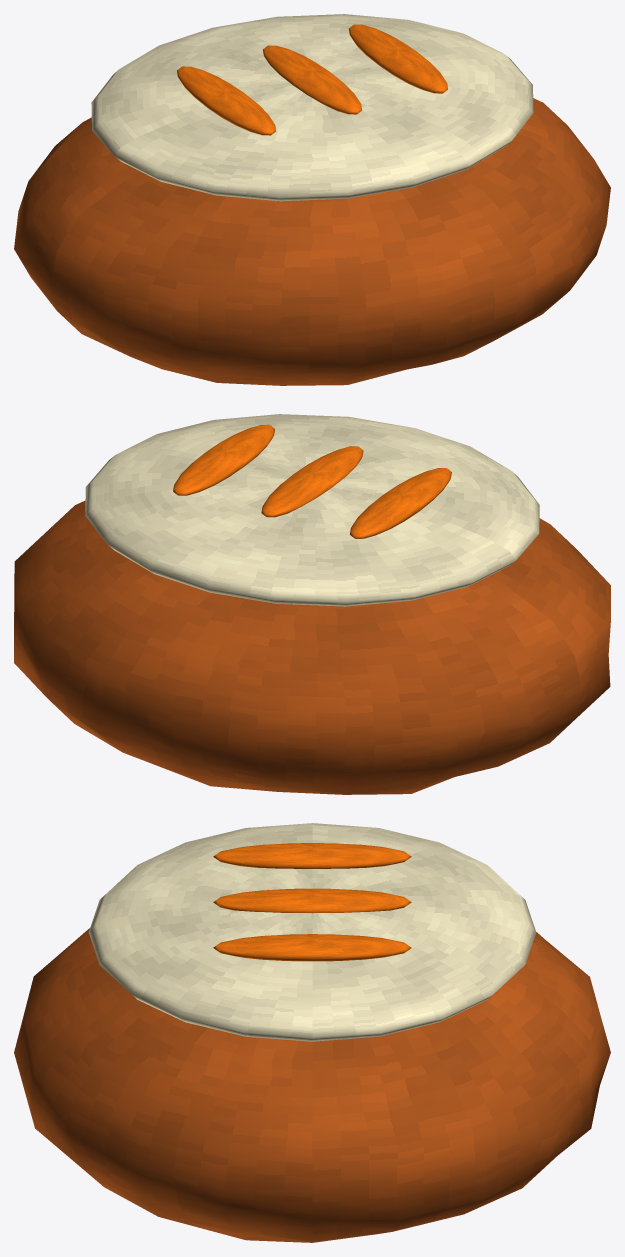
The model's file is bread_lemon.glb.
3 renders of one model, top to bottom at view 1: azimuth 30°, elevation 25°; view 2: azimuth 150°, elevation 25°; view 3: azimuth 270°, elevation 25°, orthographic. The views are drawn at different scales.
Parts seen in each view (by area): view 1: ふっくらした生地.015, レモンのアイシング, レモンピール, レモンピール.002, レモンピール.001; view 2: ふっくらした生地.015, レモンのアイシング, レモンピール, レモンピール.002, レモンピール.001; view 3: ふっくらした生地.015, レモンのアイシング, レモンピール.002, レモンピール, レモンピール.001.
Boxes of the visible parts, <box> form: ふっくらした生地.015: <box>14,98,610,385</box>; レモンのアイシング: <box>91,14,533,201</box>; レモンピール: <box>177,66,275,135</box>; レモンピール.002: <box>349,24,447,93</box>; レモンピール.001: <box>263,45,361,114</box>; ふっくらした生地.015: <box>14,501,610,794</box>; レモンのアイシング: <box>85,414,539,606</box>; レモンピール: <box>350,468,451,538</box>; レモンピール.002: <box>173,424,274,495</box>; レモンピール.001: <box>261,446,363,517</box>; ふっくらした生地.015: <box>14,928,610,1242</box>; レモンのアイシング: <box>88,823,536,1041</box>; レモンピール.002: <box>213,934,411,961</box>; レモンピール: <box>213,843,411,868</box>; レモンピール.001: <box>213,888,411,913</box>.
Size of the model in its own units: 0.7929 by 0.382 by 0.72.
3 materials, 3 textured.
